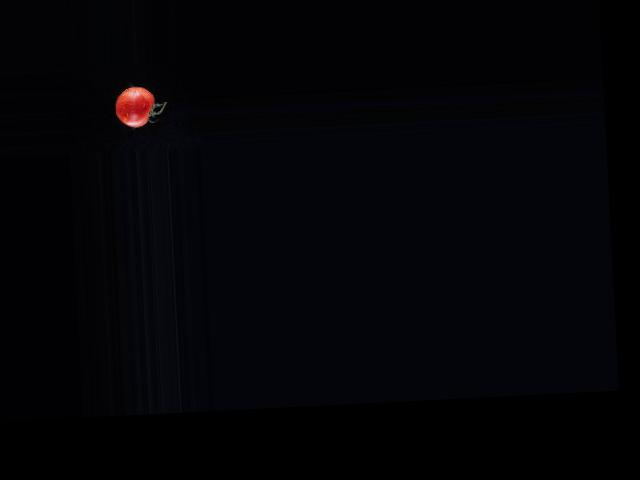tomato: (114, 85, 156, 127)
